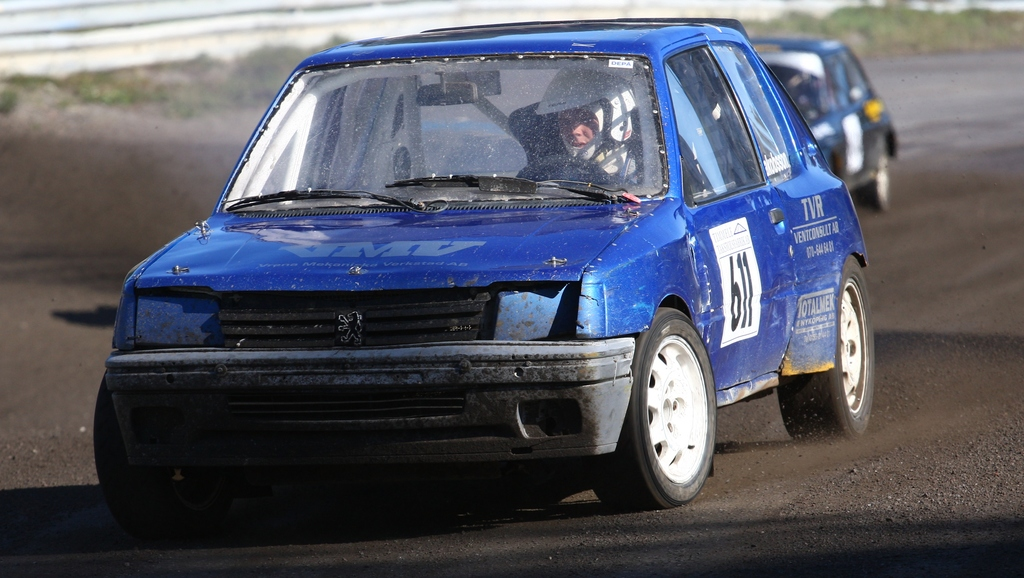Person: (536, 67, 638, 186)
